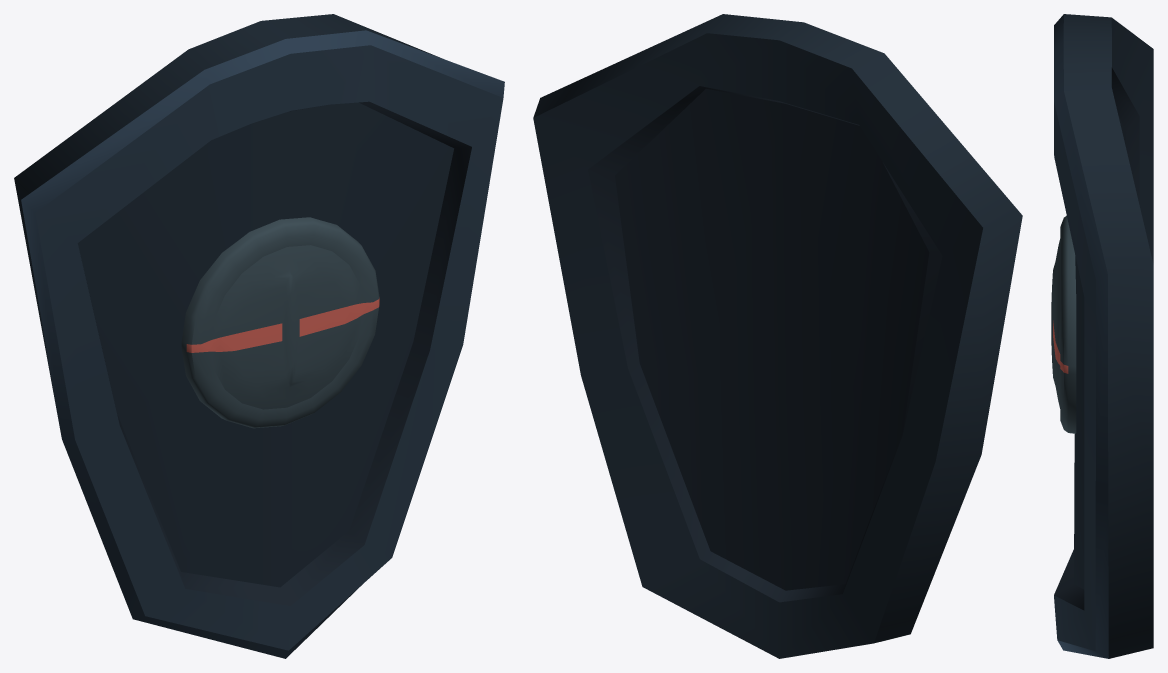
File: wpms cap4b.fbx
3 views of the same model, side by side, from view 1: azimuth 30°, elevation 25°; view 2: azimuth 150°, elevation 25°; view 3: azimuth 270°, elevation 25° (orthographic).
Parts seen in each view (by area): view 1: wpms_cap4b; view 2: wpms_cap4b; view 3: wpms_cap4b.
Part boxes in pixels (x1,y1,x2,y2): wpms_cap4b: [14, 14, 504, 658]; wpms_cap4b: [533, 14, 1022, 658]; wpms_cap4b: [1051, 14, 1153, 658].
Size of the model in its own units: 92.51 by 113 by 17.29.
Materials: 1 (1 with a texture image).
